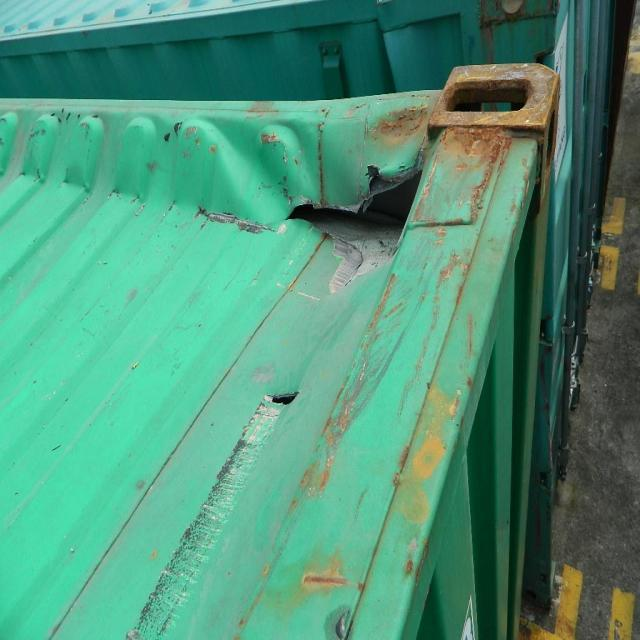hole: (288, 167, 425, 233), (272, 391, 302, 408)
